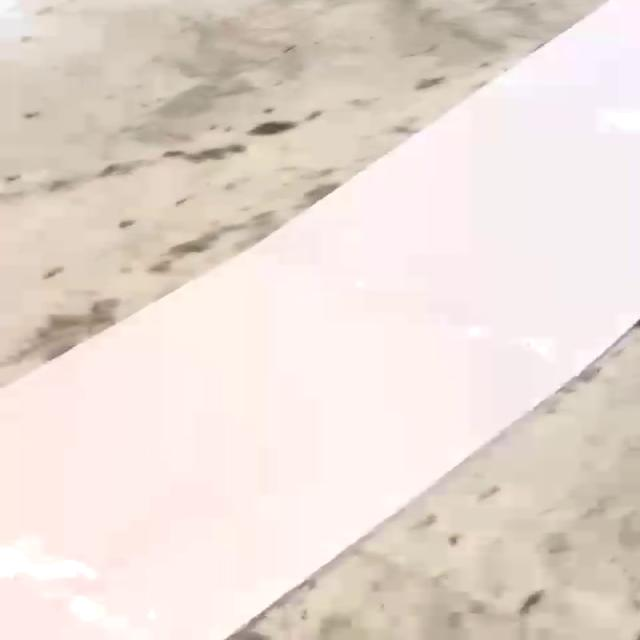road: (0, 0, 640, 640)
